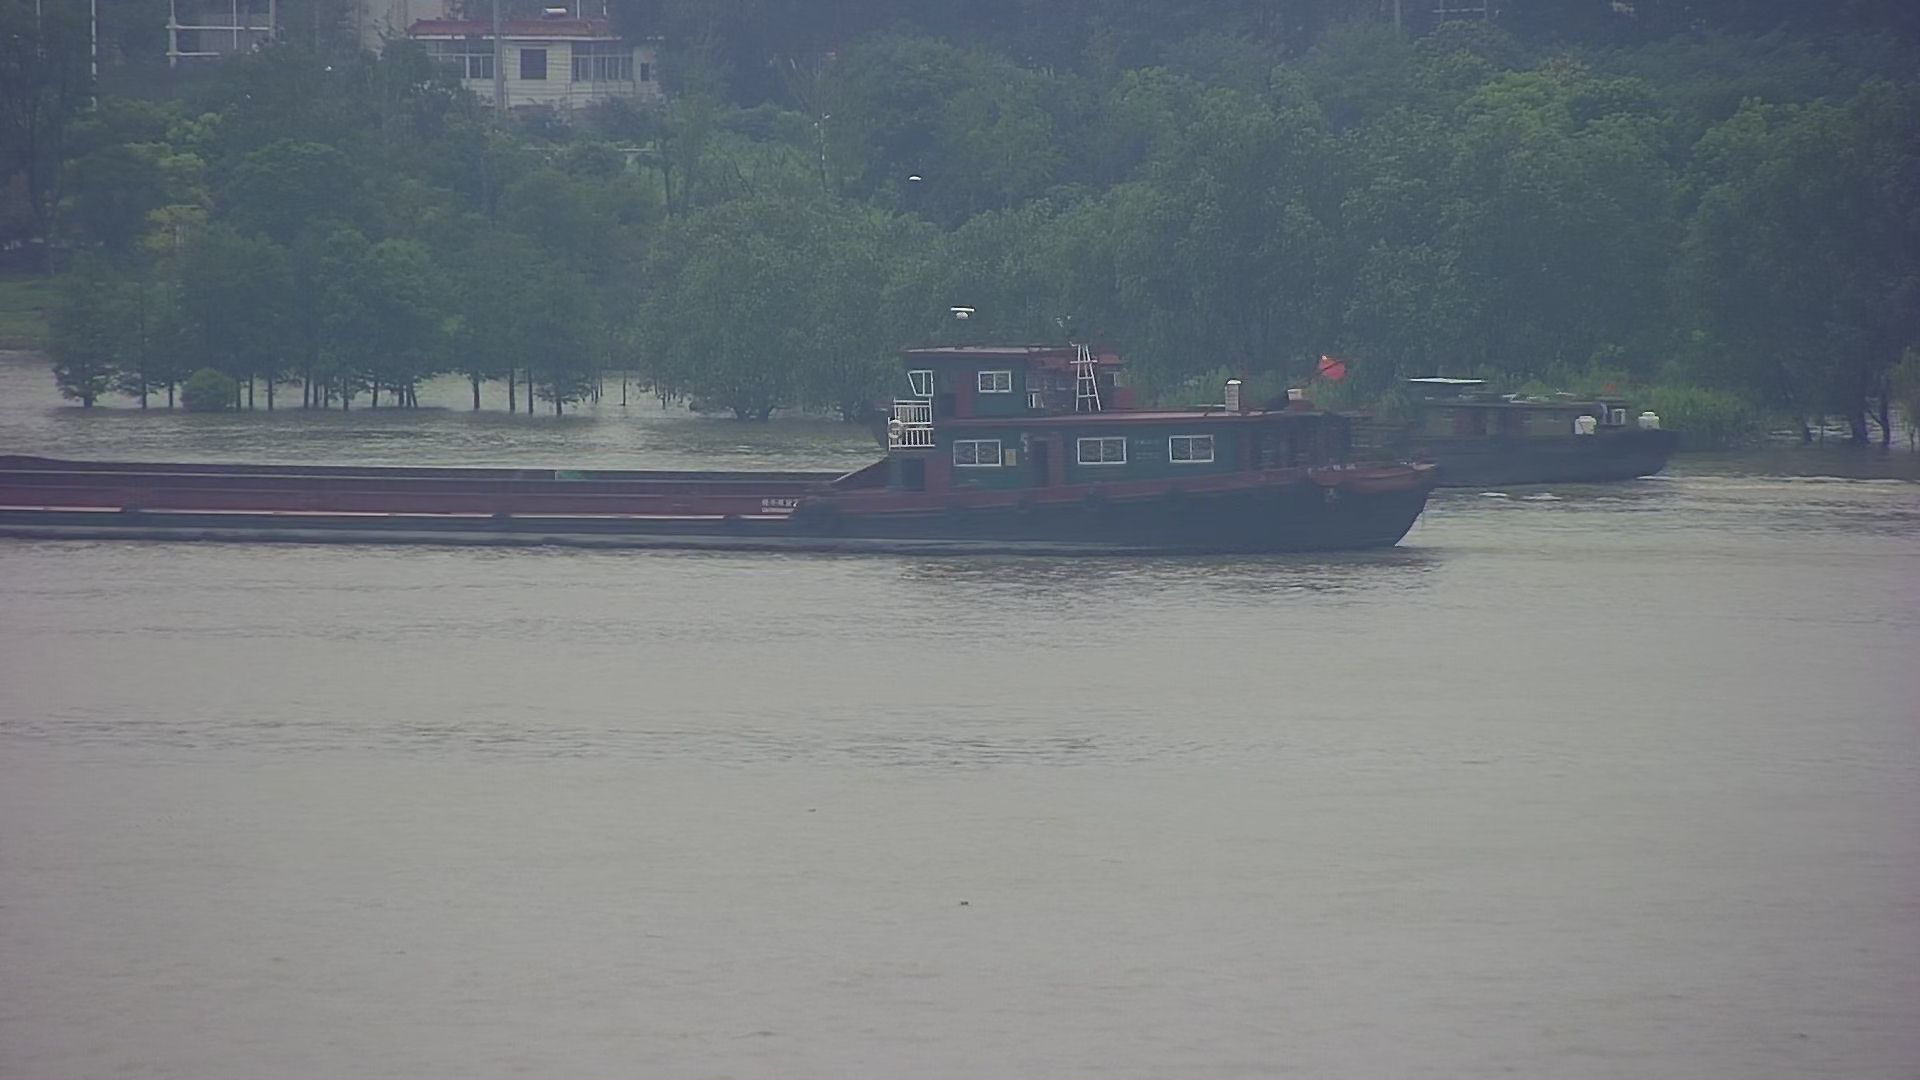ship: (1, 232, 1447, 570), (1340, 360, 1689, 497)
